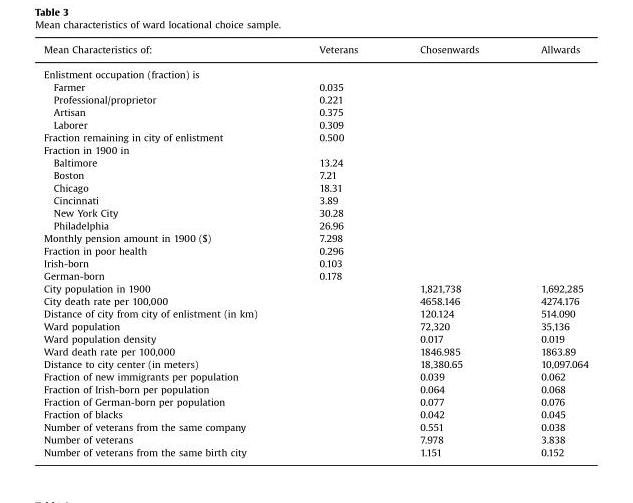table: (43, 43, 587, 457)
table column: (43, 43, 287, 457), (388, 43, 509, 457), (287, 43, 388, 457), (509, 43, 587, 457)
table column header: (43, 43, 587, 61)
table projected row header: (43, 61, 587, 80), (43, 143, 587, 155)
table row: (43, 61, 587, 80), (43, 43, 587, 61), (43, 92, 587, 105), (43, 117, 587, 130), (43, 130, 587, 143), (43, 155, 587, 168), (43, 180, 587, 193), (43, 193, 587, 206), (43, 218, 587, 231), (43, 243, 587, 256), (43, 256, 587, 269), (43, 281, 587, 294), (43, 306, 587, 319), (43, 319, 587, 332), (43, 344, 587, 357), (43, 369, 587, 382), (43, 382, 587, 395), (43, 407, 587, 420), (43, 432, 587, 445), (43, 80, 587, 92), (43, 105, 587, 117), (43, 143, 587, 155), (43, 168, 587, 180), (43, 206, 587, 218), (43, 231, 587, 243), (43, 269, 587, 281), (43, 294, 587, 306), (43, 332, 587, 344), (43, 357, 587, 369), (43, 395, 587, 407), (43, 420, 587, 432), (43, 445, 587, 457)
